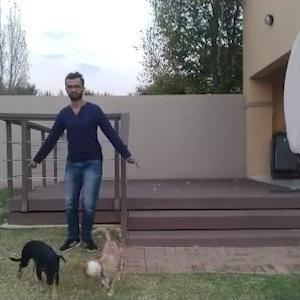land: (32, 75, 138, 258)
